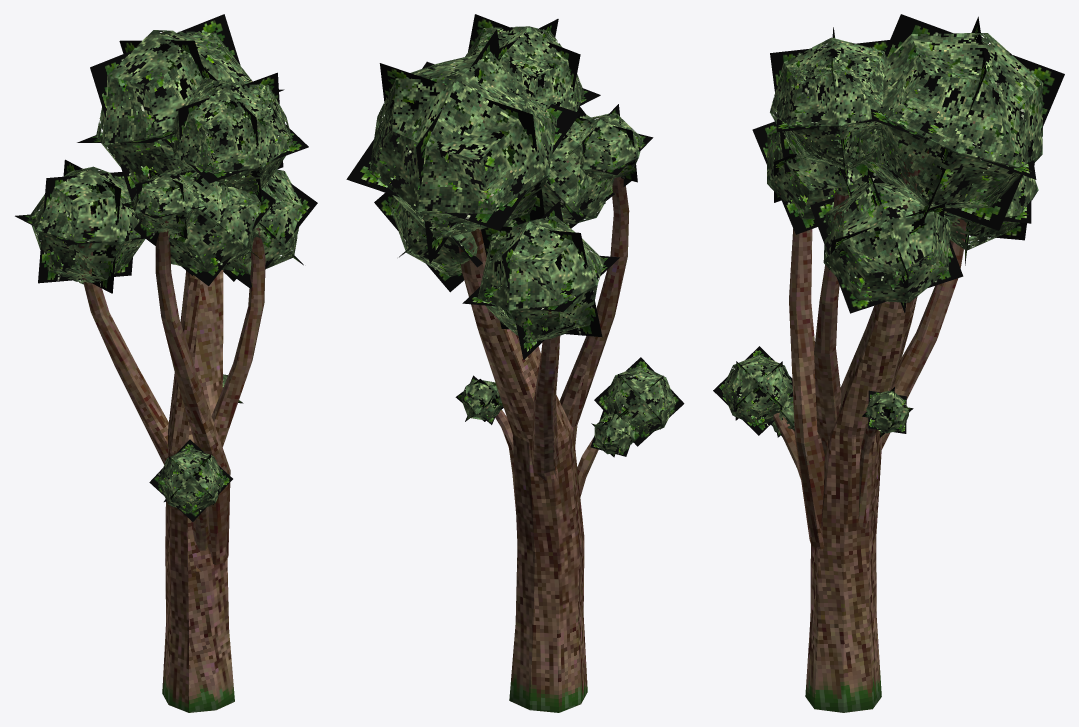
The model's file is oak2.glb.
3 renders of one model, left to right at view 1: azimuth 30°, elevation 25°; view 2: azimuth 150°, elevation 25°; view 3: azimuth 270°, elevation 25°, orthographic. The views are drawn at different scales.
Visible parts, largest first — view 1: oak2; view 2: oak2; view 3: oak2.
Part boxes in pixels (x1=…): oak2: x1=15, y1=14, x2=317, y2=712; oak2: x1=346, y1=14, x2=684, y2=712; oak2: x1=713, y1=14, x2=1064, y2=712.
Bounding box in the file's own units: 6.15 × 15.63 × 7.18.
3 materials, 3 textured.
